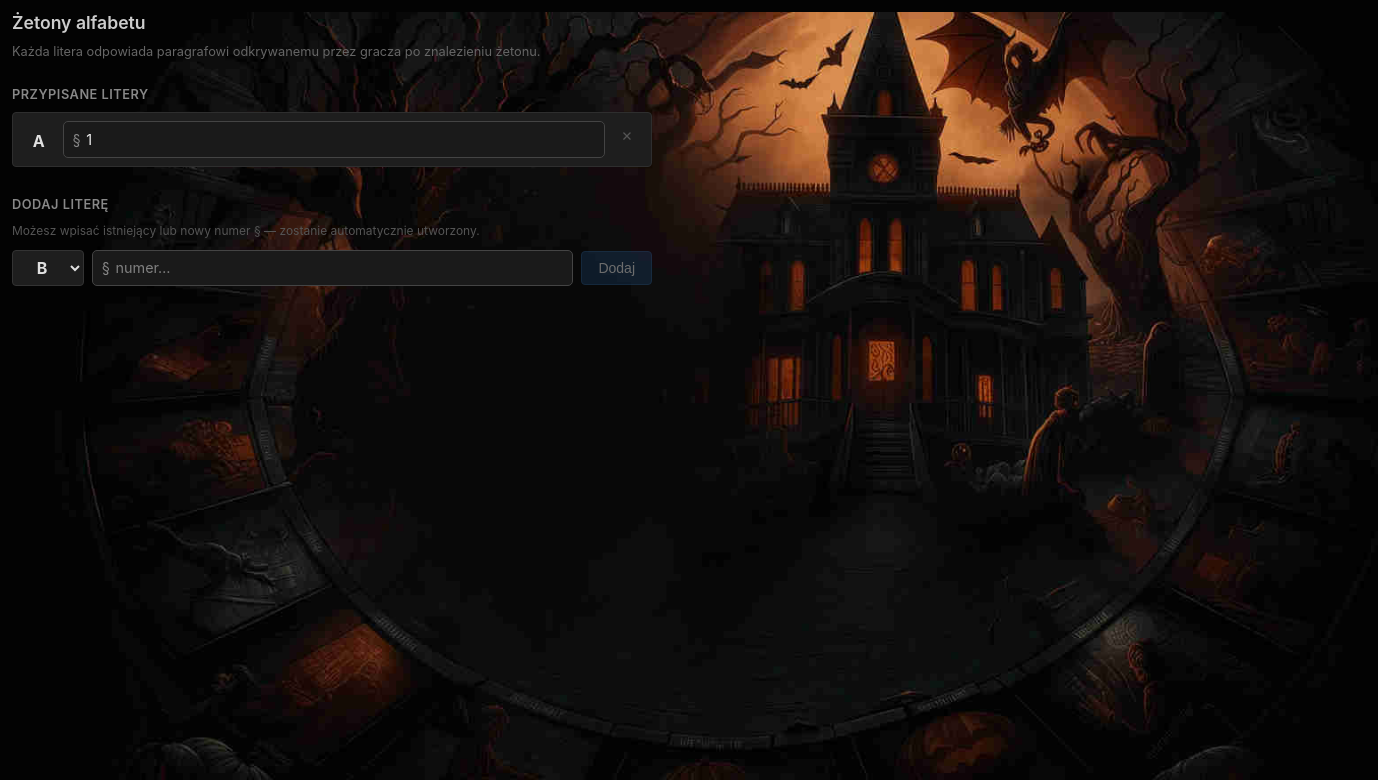
Test: LettersEditor › shows confirmation before deleting
Click the button titled "Usuń przypisanie" at (627, 137), box [615,126,639,148]
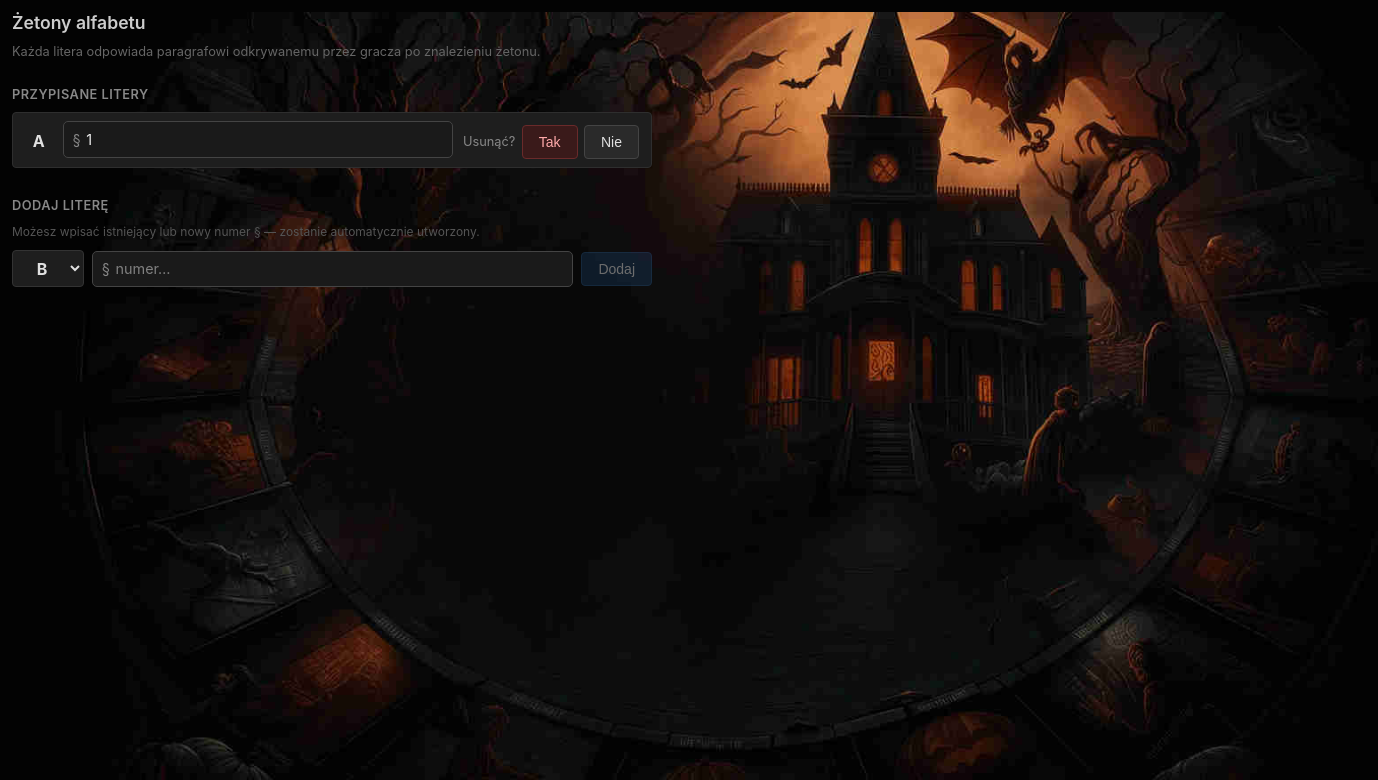
Now the text "Usunąć?" is shown, box [463,132,516,151]
Now the button "Tak" is shown, box [522,124,578,158]
Now the button "Nie" is shown, box [584,124,639,158]
